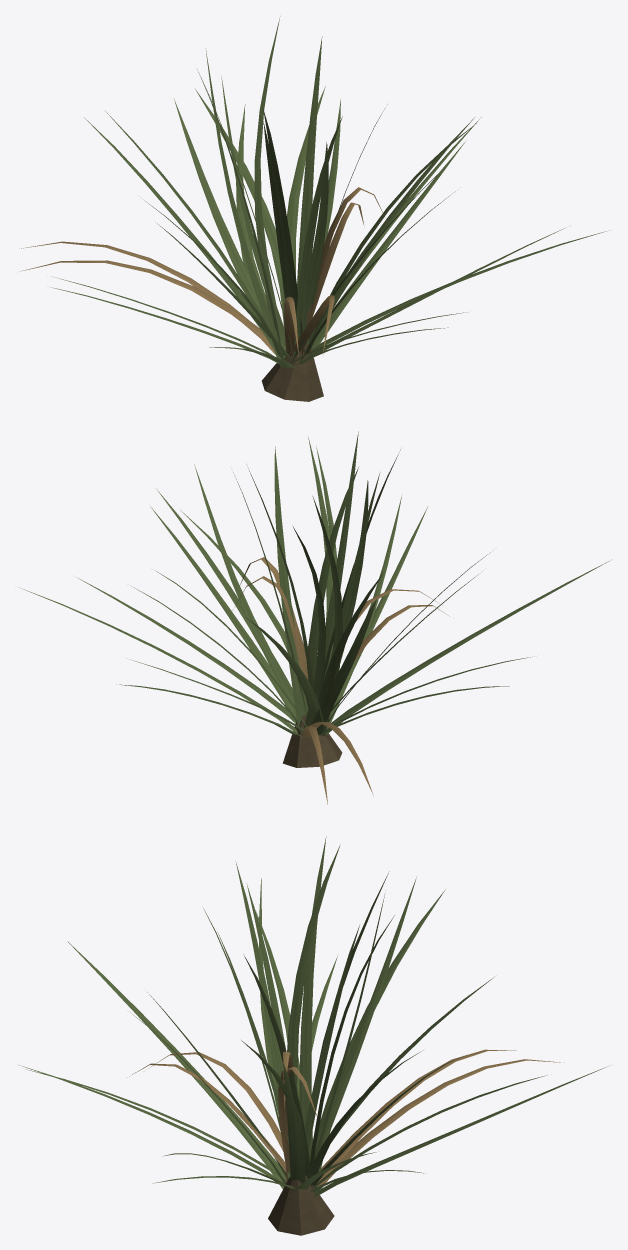
File: SM_CN_Yucca_B.fbx
3 renders of one model, top to bottom at view 1: azimuth 30°, elevation 25°; view 2: azimuth 150°, elevation 25°; view 3: azimuth 270°, elevation 25°, orthographic. The views are drawn at different scales.
Parts seen in each view (by area): view 1: SM_CN_Yucca_B; view 2: SM_CN_Yucca_B; view 3: SM_CN_Yucca_B.
Part boxes in pixels (left/top/right/bottom): SM_CN_Yucca_B: left=20, top=16, right=609, bottom=401; SM_CN_Yucca_B: left=19, top=431, right=609, bottom=804; SM_CN_Yucca_B: left=19, top=836, right=608, bottom=1235.
Bounding box in the file's own units: 1.59 × 1.64 × 1.05.
